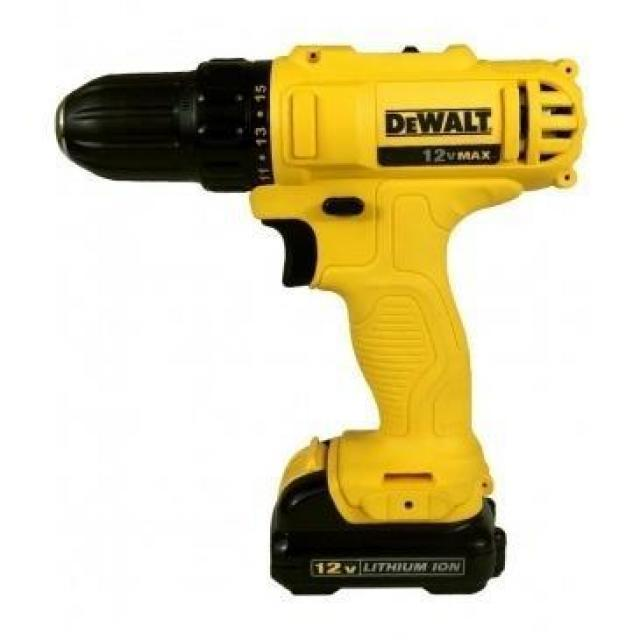drill: (56, 43, 588, 597)
